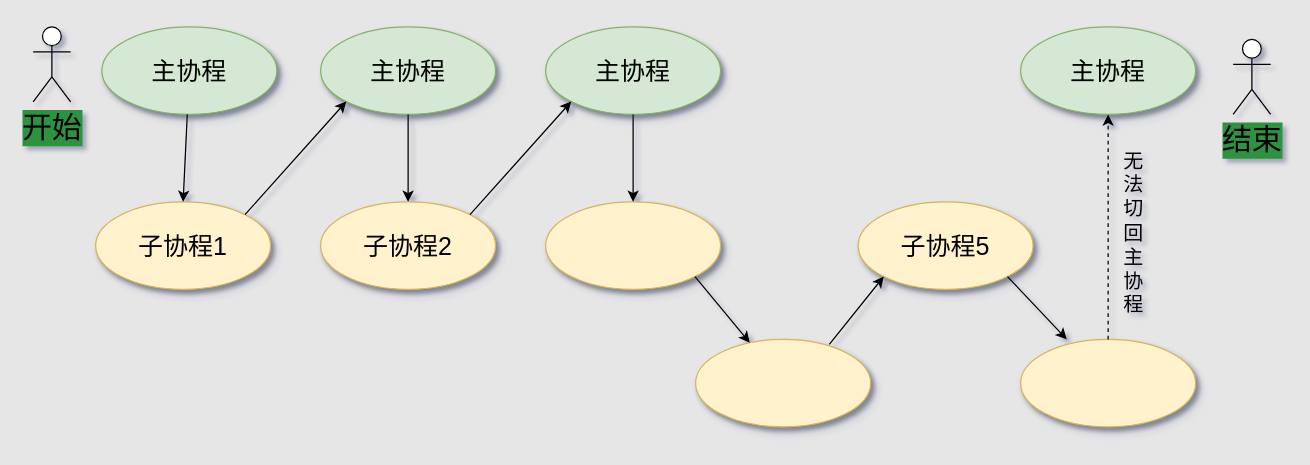
The diagram is 1310 pixels wide and 465 high, and some of its shapes have lost their labels. The shapes that lost their labels are listed below. From the top down, each one's centre as x and y in pixels, then its label:
At (633,247): "子协程3".
At (783,384): "子协程4".
At (1108,384): "子协程6".
